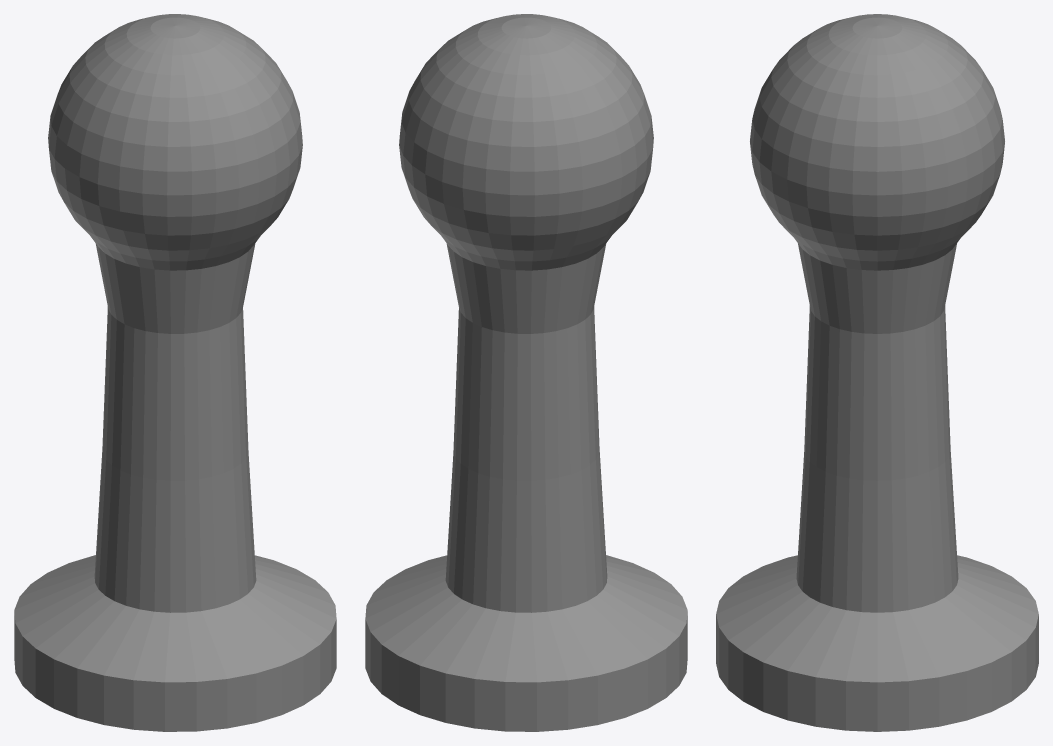
3 renders of one model, left to right at view 1: azimuth 30°, elevation 25°; view 2: azimuth 150°, elevation 25°; view 3: azimuth 270°, elevation 25°, orthographic.
Parts seen in each view (by area): view 1: Sphere; view 2: Sphere; view 3: Sphere.
Part boxes in pixels (box(x1,y1,x2,y2)): Sphere: box(14, 14, 336, 731); Sphere: box(365, 14, 687, 731); Sphere: box(716, 14, 1038, 731).
Size of the model in its own units: 2.64 by 2.64 by 5.75.
1 material, 1 textured.
